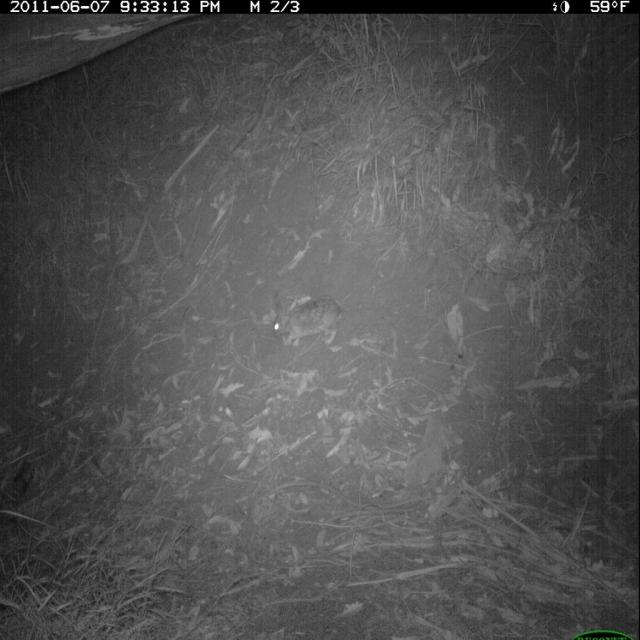rabbit: (258, 282, 361, 359)
